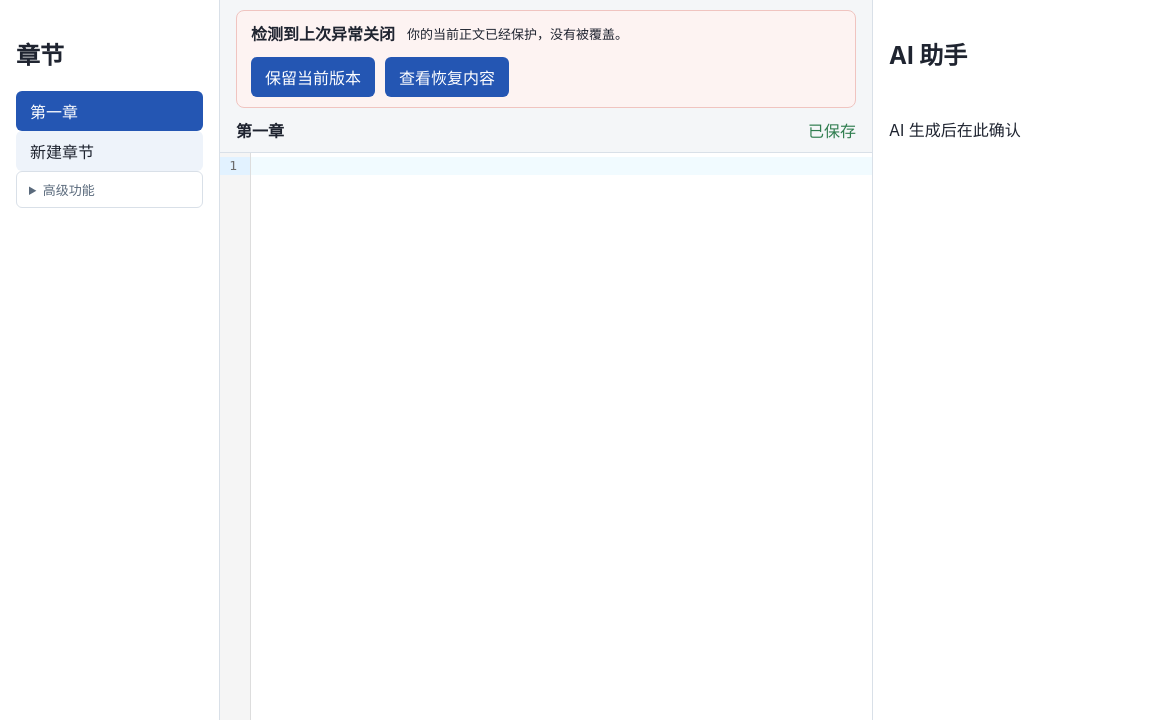
LingBi Next desktop shell › 查看恢复内容 shows the recovered AI content instead of dismissing
Click the button "查看恢复内容" at (447, 77), box 385,57 -> 509,97
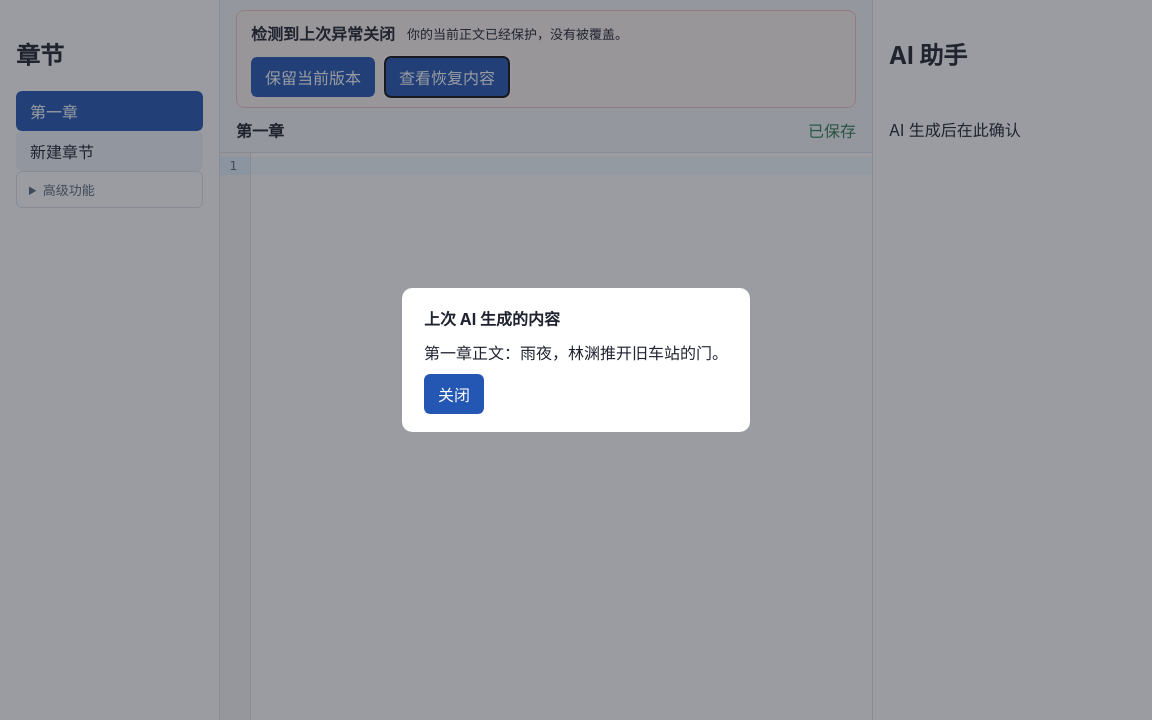
Expected: the text "第一章正文：雨夜，林渊推开旧车站的门。" is shown, 424,340 -> 728,364
Expected: the dialog named "恢复内容" is shown
